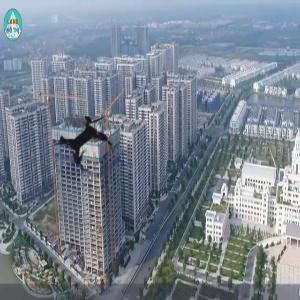drone: (35, 88, 139, 192)
